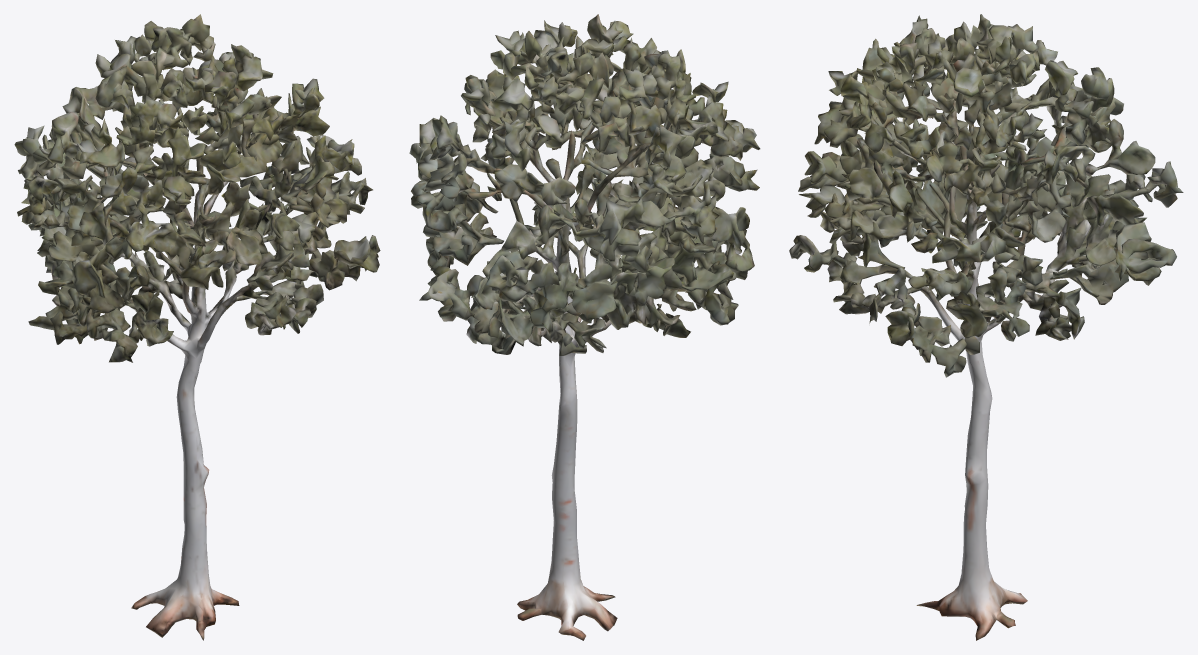
File: AI_GhostGum05.fbx
3 views of the same model, side by side, from view 1: azimuth 30°, elevation 25°; view 2: azimuth 150°, elevation 25°; view 3: azimuth 270°, elevation 25° (orthographic).
Parts seen in each view (by area): view 1: Mesh1.0; view 2: Mesh1.0; view 3: Mesh1.0.
Part boxes in pixels (x1=…): Mesh1.0: x1=14, y1=14, x2=380, y2=640; Mesh1.0: x1=409, y1=14, x2=760, y2=640; Mesh1.0: x1=789, y1=14, x2=1183, y2=640.
Size of the model in its own units: 115 by 202 by 121.
Materials: 1 (1 with a texture image).
